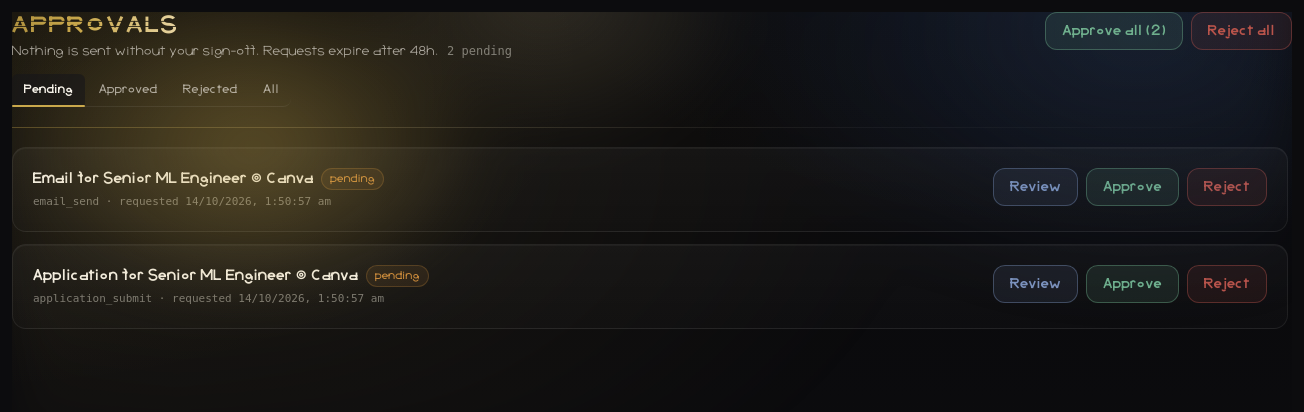
Scenario: bulk-approve executes the send for every approved email_send item (C2) › reports a failed send honestly without hiding it inside the decision-failure count
Click the button with test id "bulk-approve-btn" at (1114, 31), box [1046,12,1183,50]
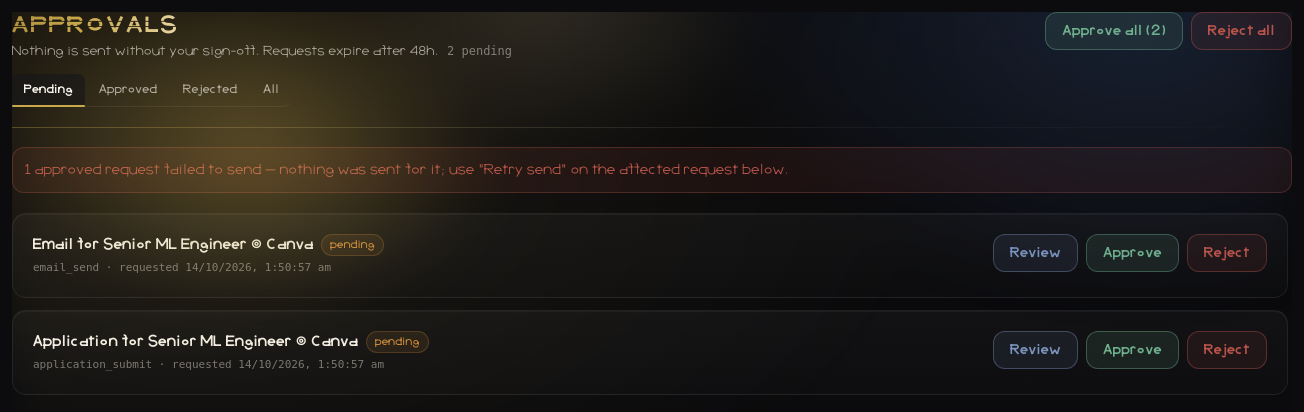
Now the message shows "send", box [25,163,789,177]
